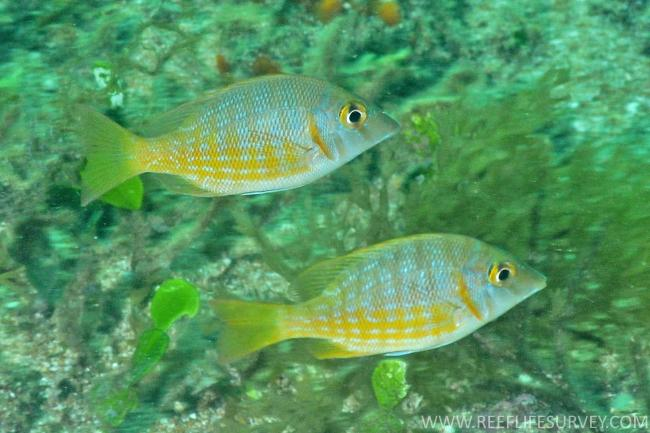fish: (209, 232, 549, 367), (76, 73, 401, 208)
